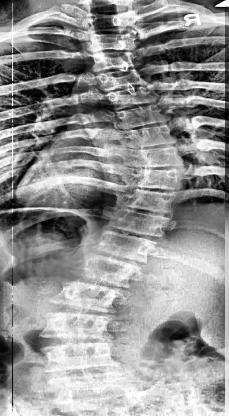Vertebrae: (43, 340, 124, 378), (89, 226, 161, 266), (48, 368, 132, 402), (48, 280, 126, 316), (41, 310, 116, 346), (70, 252, 136, 290), (106, 205, 172, 239), (119, 186, 182, 216), (126, 142, 182, 170), (110, 102, 170, 128), (78, 9, 142, 33), (130, 166, 188, 192), (83, 28, 140, 54), (121, 122, 177, 148), (104, 82, 160, 107), (94, 69, 152, 92), (87, 50, 141, 72)
